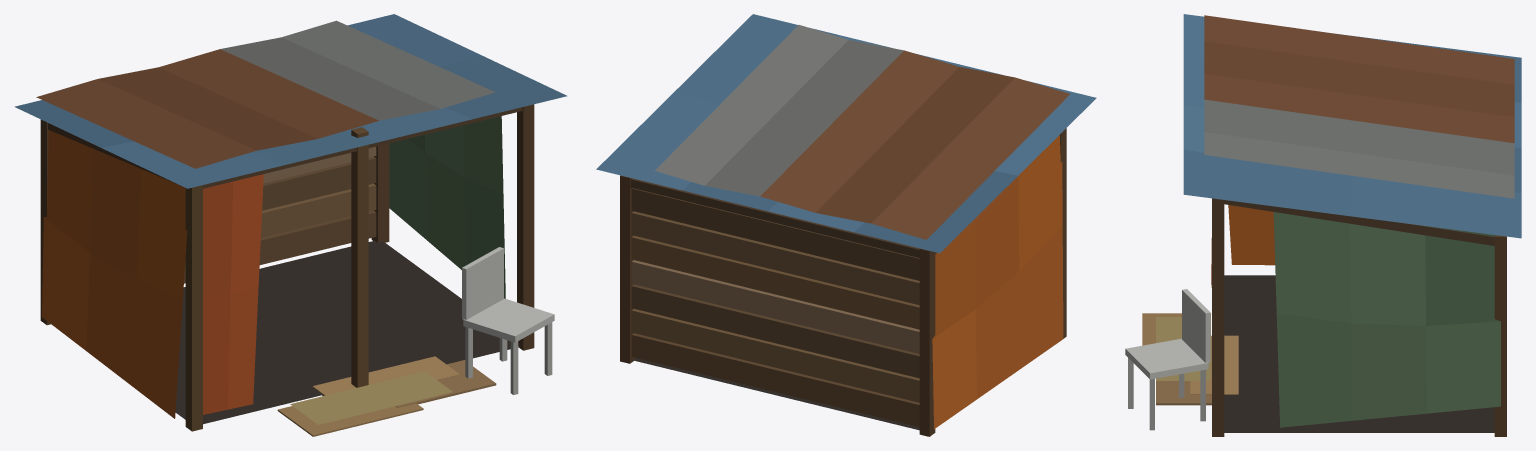
The model's file is ns_tent_shack_lod1.glb.
3 views of the same model, side by side, from view 1: azimuth 30°, elevation 25°; view 2: azimuth 150°, elevation 25°; view 3: azimuth 270°, elevation 25° (orthographic). The views are drawn at different scales.
Parts seen in each view (by area): view 1: ns_tent_shack_lod1; view 2: ns_tent_shack_lod1; view 3: ns_tent_shack_lod1.
Boxes of the visible parts, x1,y1,x2,y2 form: ns_tent_shack_lod1: (14, 14, 567, 436); ns_tent_shack_lod1: (596, 14, 1096, 436); ns_tent_shack_lod1: (1125, 14, 1521, 436).
Size of the model in its own units: 3.1 by 2.1 by 2.87.
